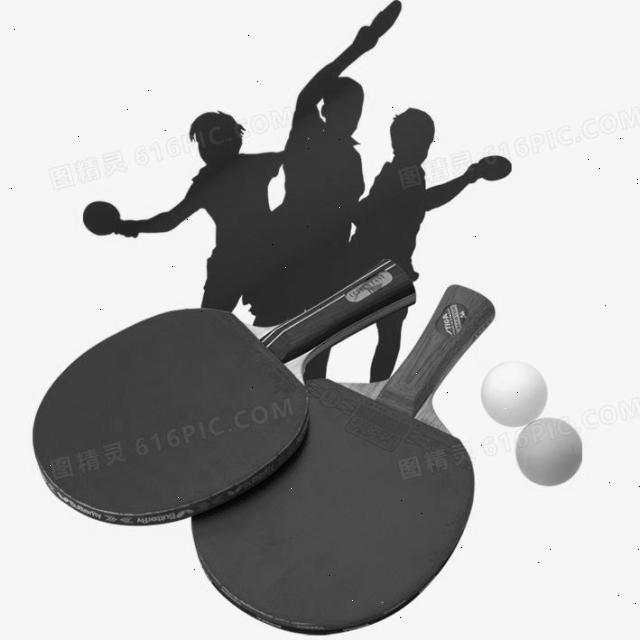ping-pong-ball: (476, 358, 550, 430), (511, 417, 584, 487)
